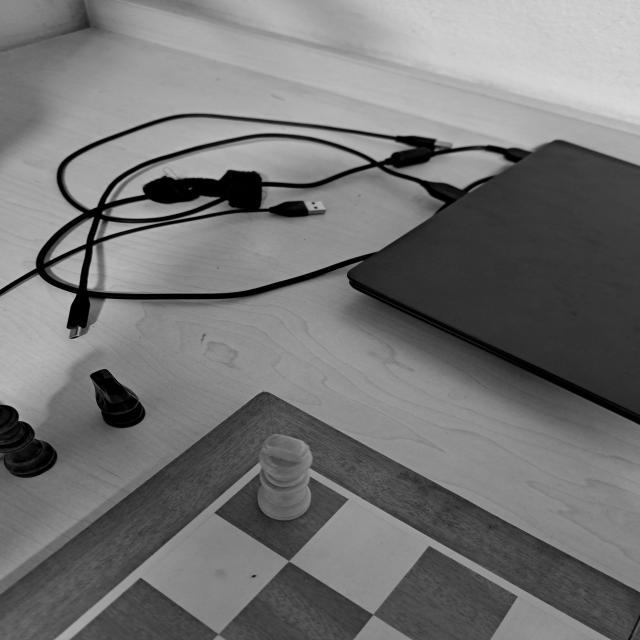chess-table-corners: (222, 438, 336, 498)
